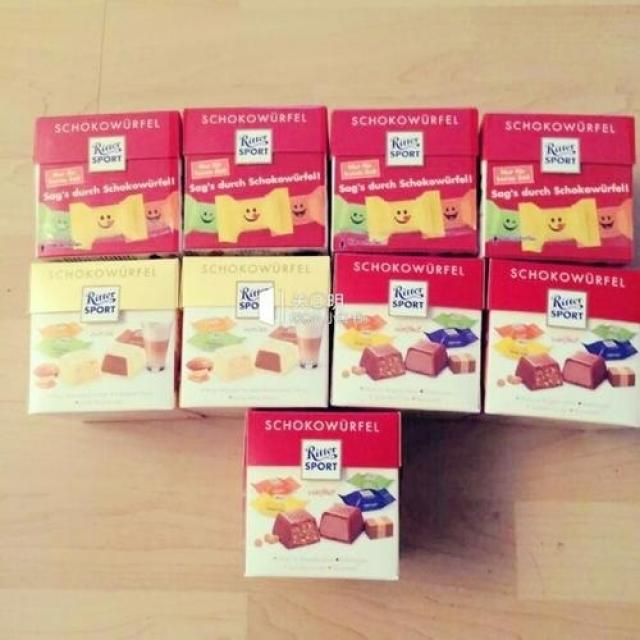box: (29, 259, 207, 427), (329, 251, 484, 436), (480, 259, 639, 430), (245, 407, 398, 581), (178, 255, 330, 420), (481, 112, 637, 267), (328, 107, 483, 256), (31, 113, 182, 261), (181, 106, 329, 257)
